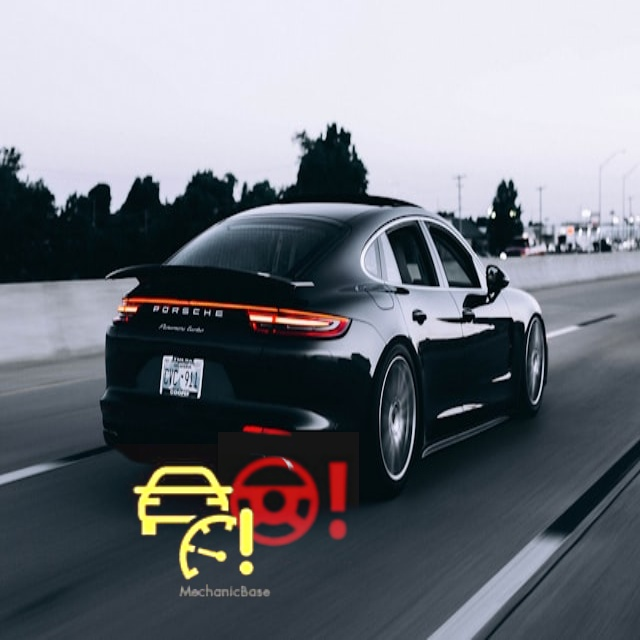symbol: (114, 444, 273, 603), (218, 432, 359, 573)
